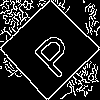P: (24, 24, 81, 81)
